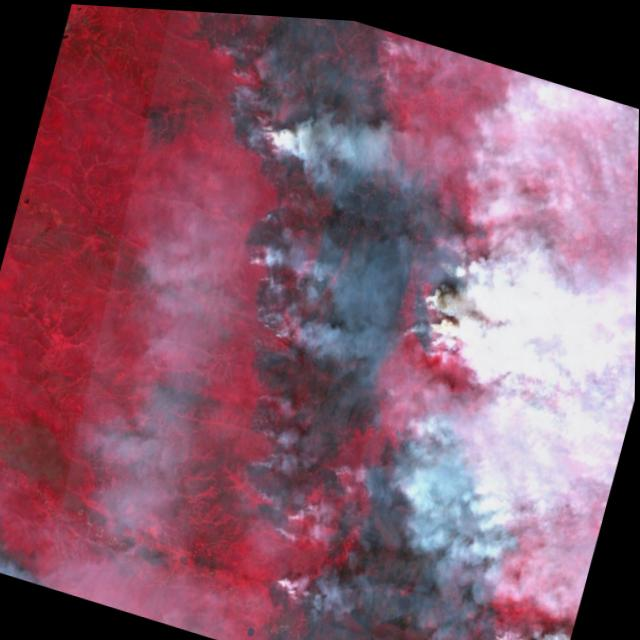fire: (392, 218, 482, 369), (210, 67, 296, 164), (429, 598, 537, 640)
